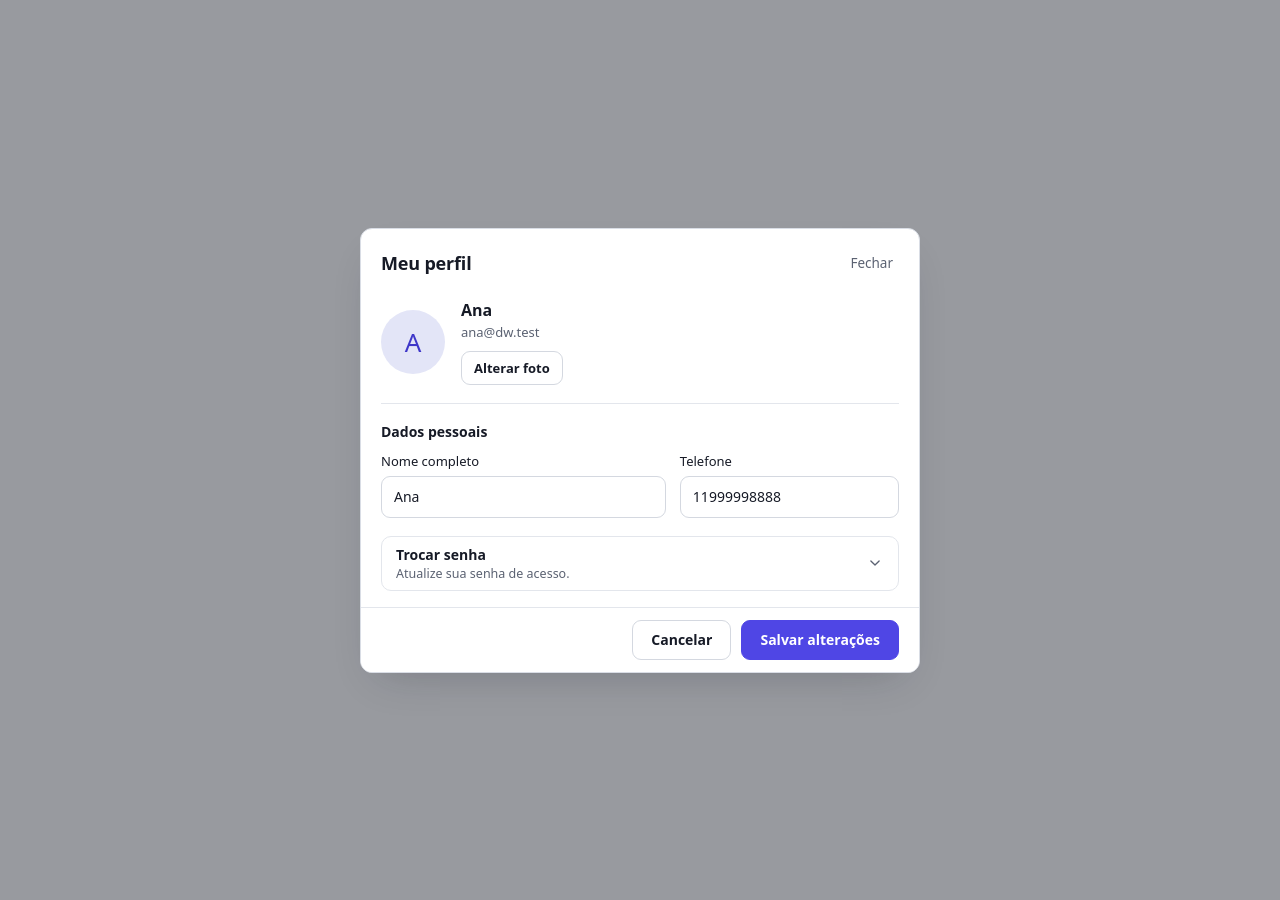
Test case: ProfileModal › changes the password from the embedded section
This screenshot has width=1280, height=900.
Check: the field showing "Ana" is shown, box [381, 476, 666, 518]
Click the text "Atualize sua senha de acesso." at (483, 573), box [396, 564, 570, 582]
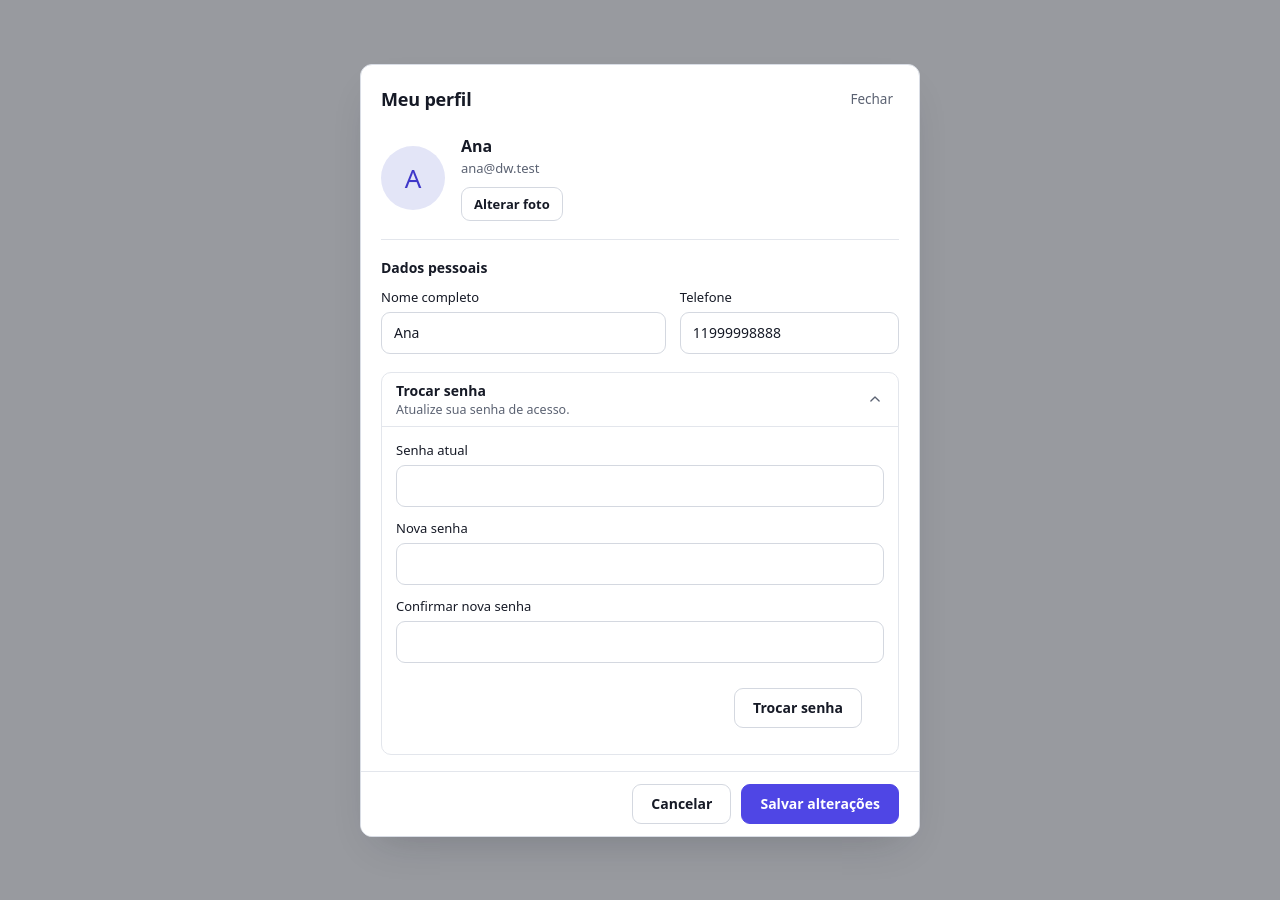
Type "oldpass123" into the password field labelled "Senha atual" at (640, 486), box [396, 464, 884, 506]
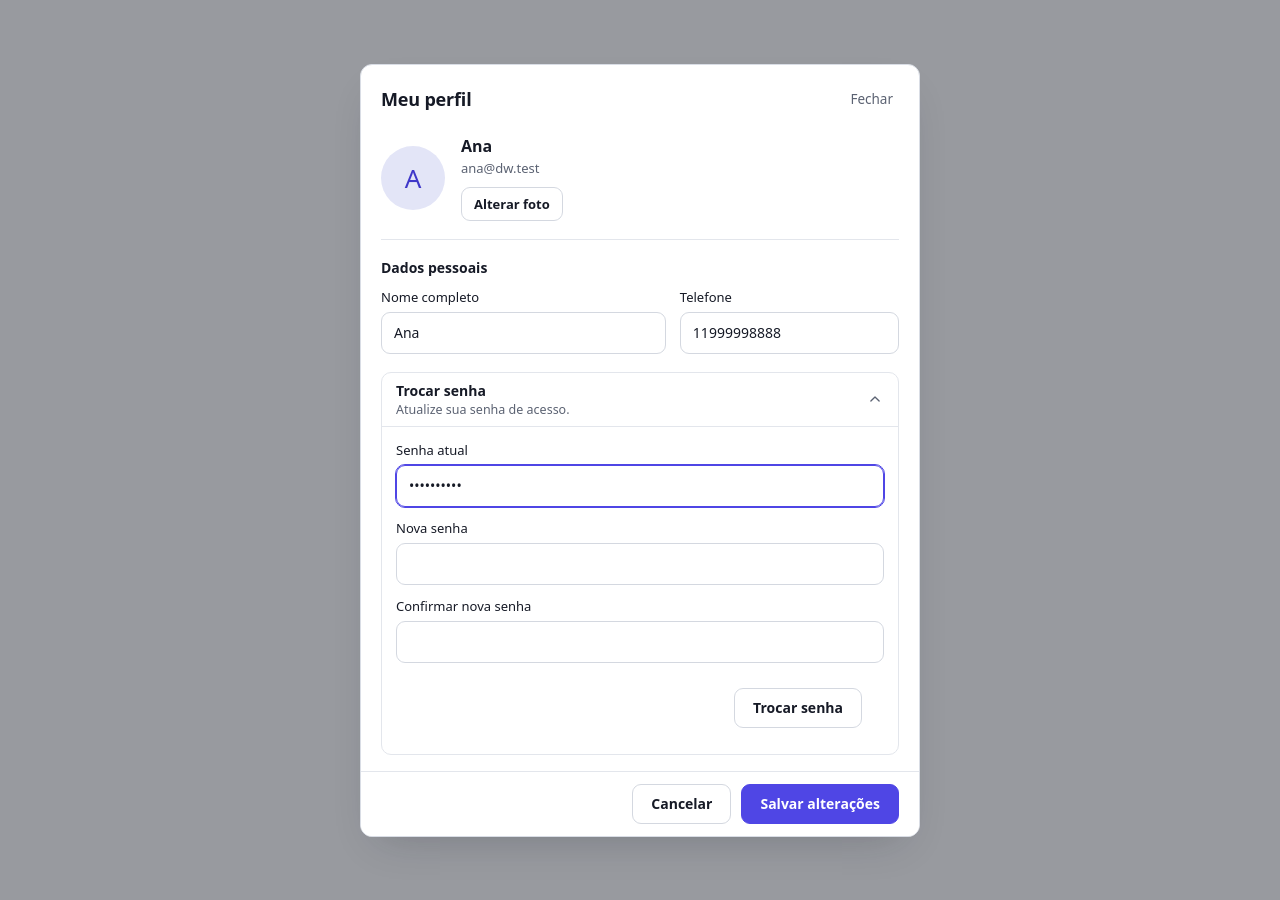
Type "newpass456" into the password field labelled "Nova senha" at (640, 564), box [396, 542, 884, 584]
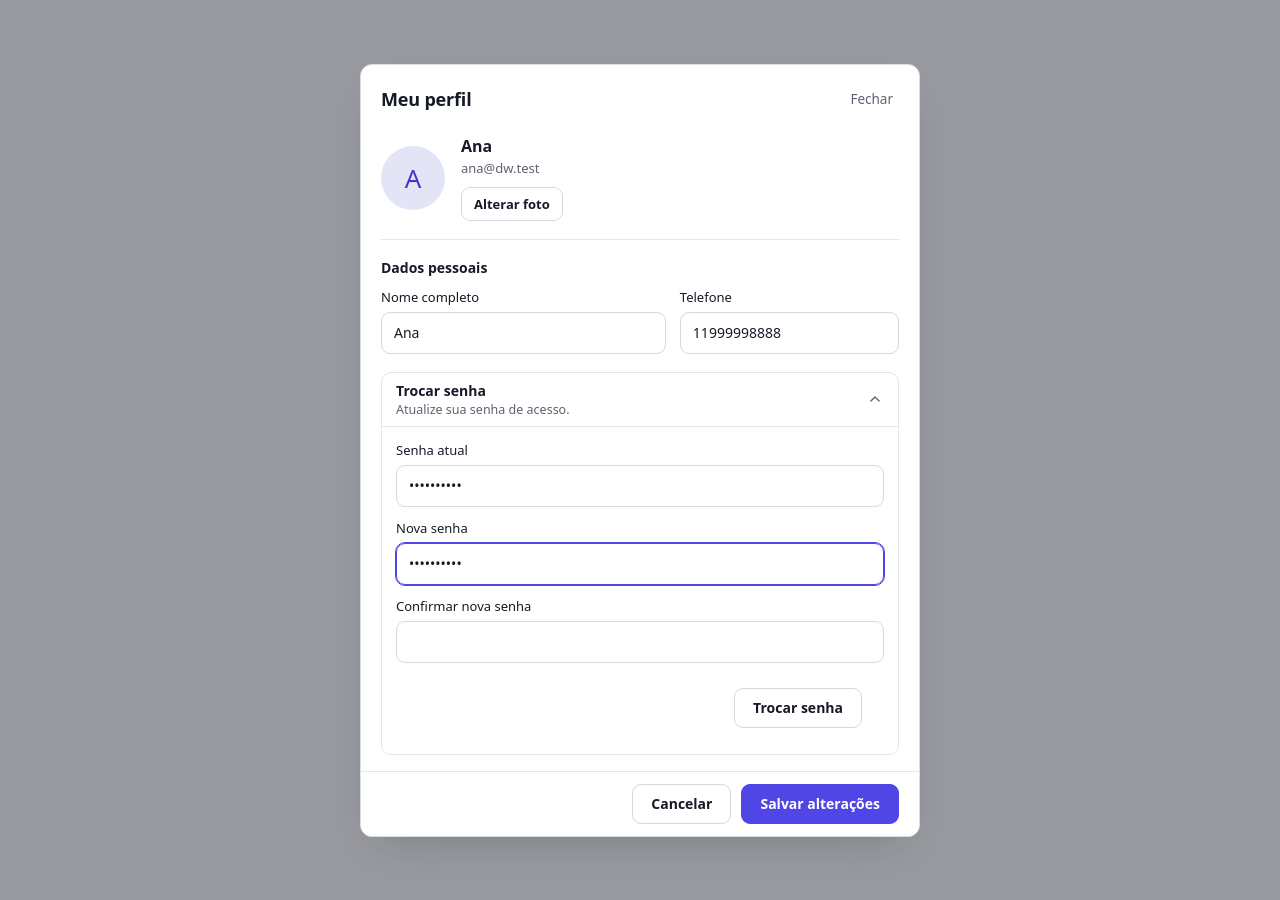
Type "newpass456" into the password field labelled "Confirmar nova senha" at (640, 642), box [396, 620, 884, 662]
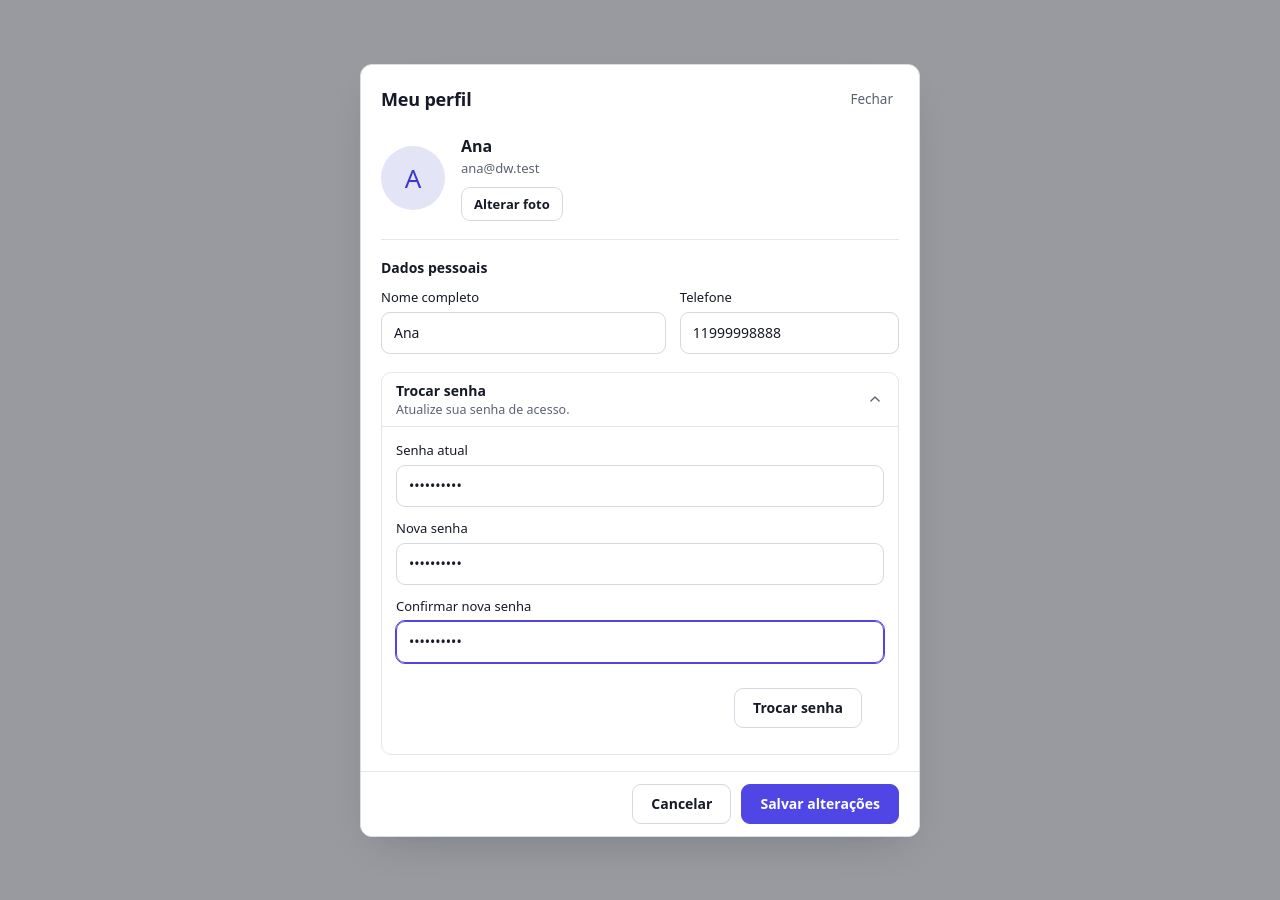
Click the button "Trocar senha" at (798, 708), box [734, 688, 862, 728]
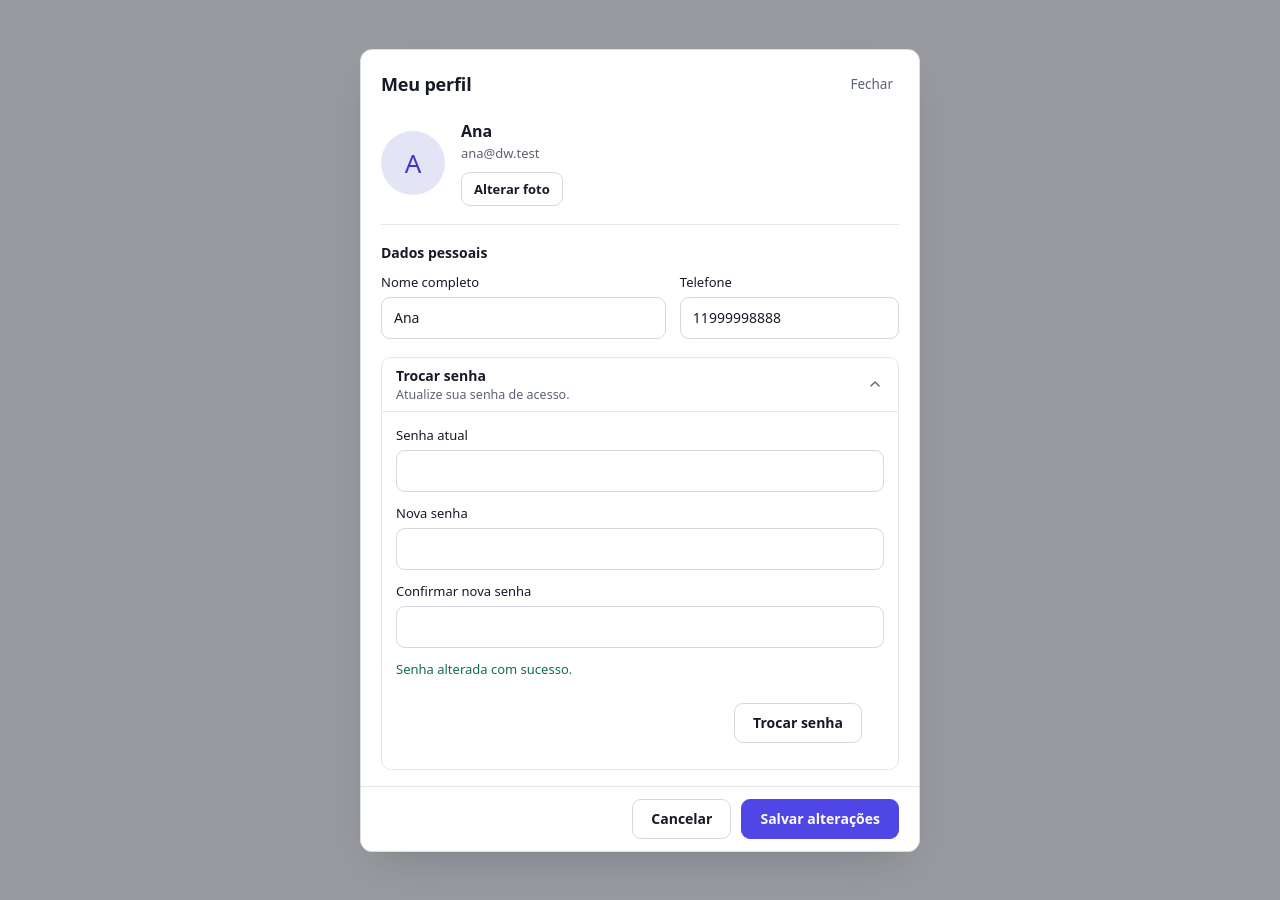
Check: the text "Senha alterada com sucesso." is shown, box [396, 660, 572, 678]
